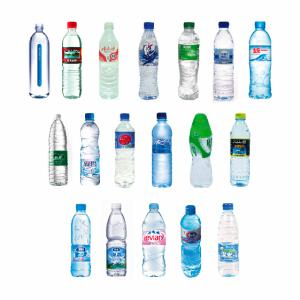Plastic-bottle: (250, 21, 273, 100), (144, 204, 168, 278), (179, 23, 201, 102), (190, 114, 213, 189), (214, 21, 235, 103), (139, 23, 160, 101), (100, 23, 121, 100), (30, 24, 51, 100), (153, 113, 174, 188), (81, 113, 102, 187), (72, 204, 93, 278), (107, 203, 128, 277), (181, 205, 202, 279), (219, 204, 240, 278), (63, 22, 83, 99), (116, 114, 136, 189), (231, 113, 251, 188), (50, 114, 69, 187)
